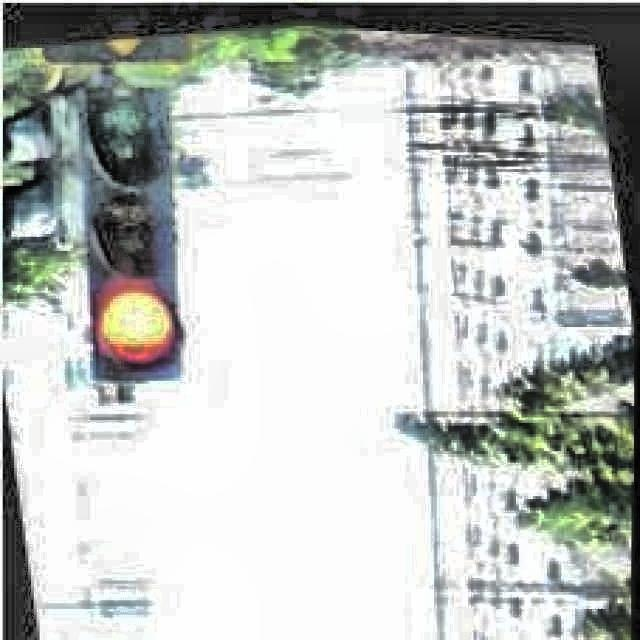red: (72, 79, 198, 388)
